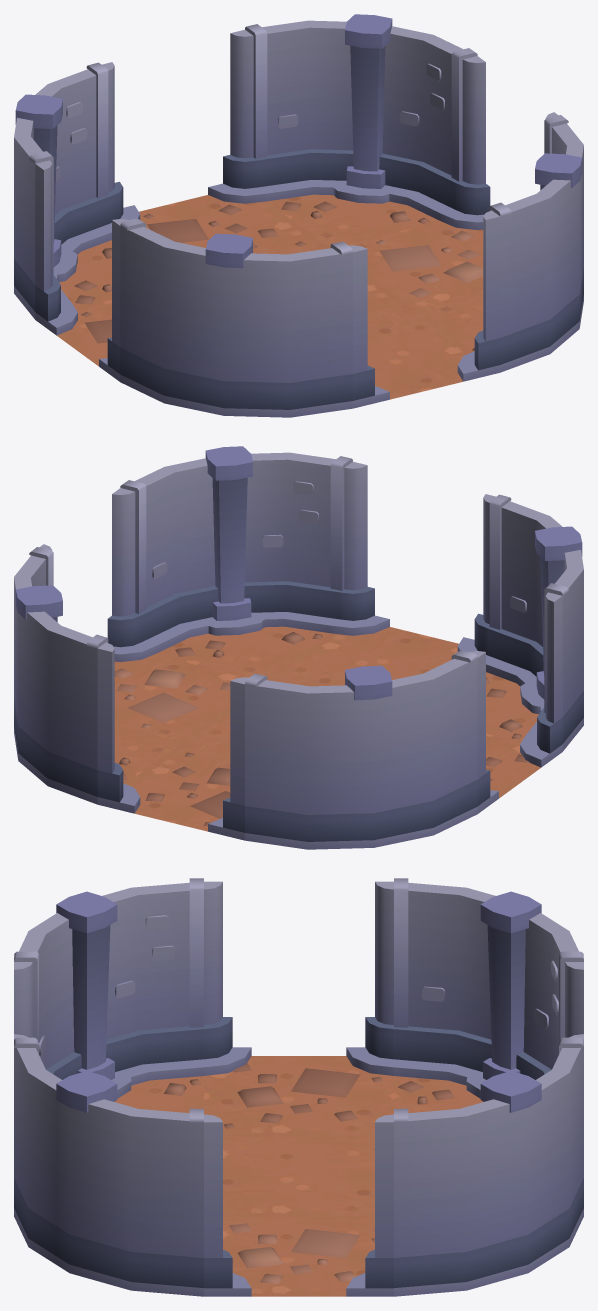
Rendered from room-small.glb.
3 views of the same model, one above another, from view 1: azimuth 30°, elevation 25°; view 2: azimuth 150°, elevation 25°; view 3: azimuth 270°, elevation 25° (orthographic). The views are drawn at different scales.
Visible parts, largest first — view 1: room-small; view 2: room-small; view 3: room-small.
Part boxes in pixels (left/top/right/bottom): room-small: left=14, top=14, right=583, bottom=417; room-small: left=14, top=446, right=583, bottom=849; room-small: left=14, top=878, right=583, bottom=1296.
Bounding box in the file's own units: 12 × 4.23 × 12.
Materials: 1 (1 with a texture image).
